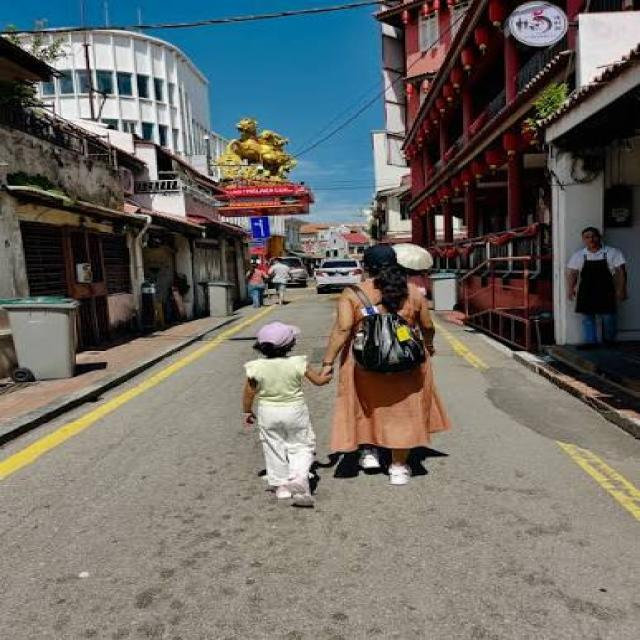Person: (320, 237, 460, 497), (236, 316, 338, 514), (561, 222, 634, 368)
